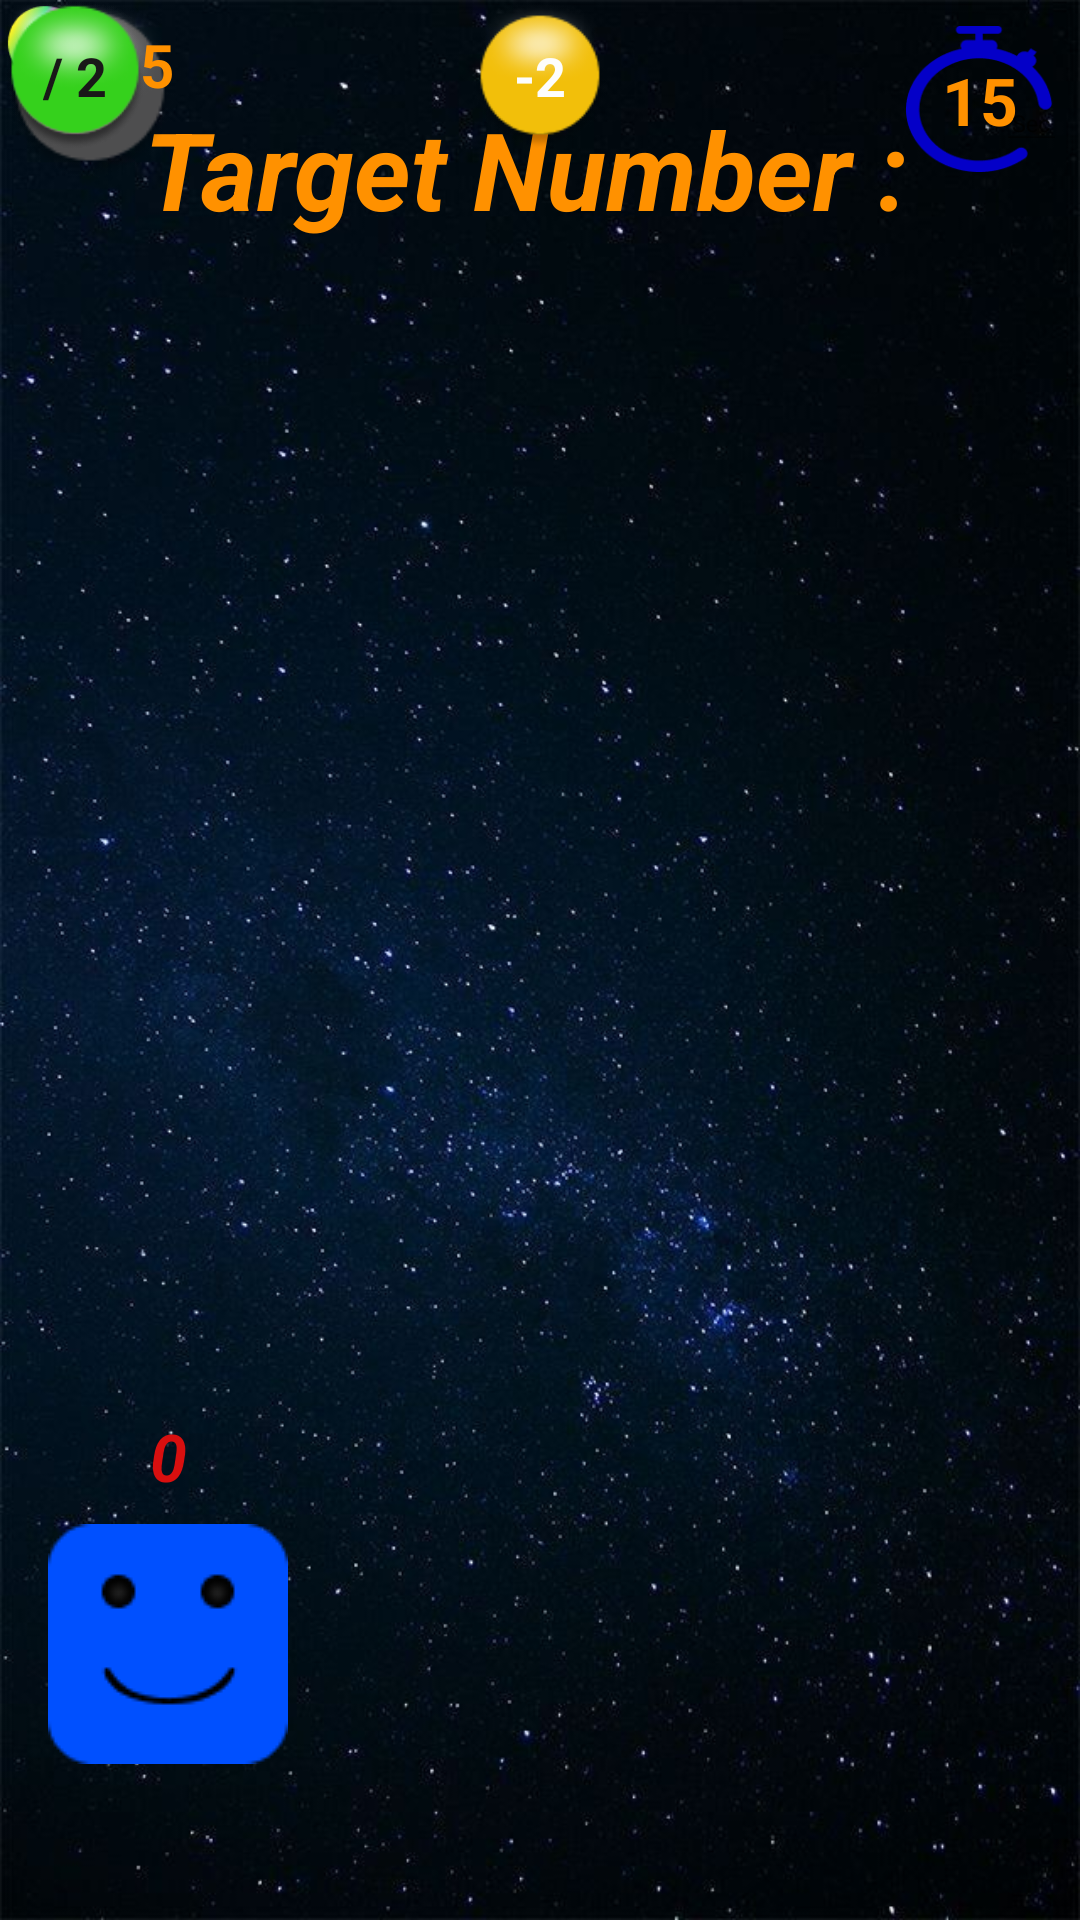

Named icons in this screenshot (1080 x 1920) and their bounding boxes, (x1, y1, x2, y2):
timer: (906, 26, 1053, 172)
